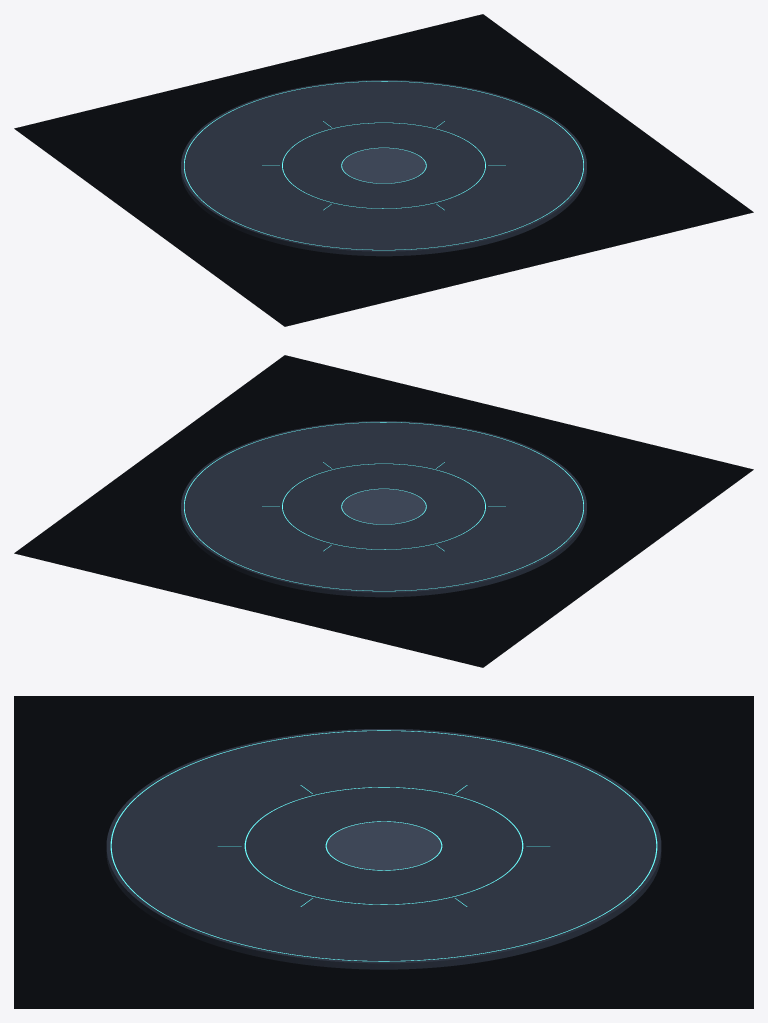
The picture shows the model from 3 angles, top to bottom: view 1: azimuth 30°, elevation 25°; view 2: azimuth 150°, elevation 25°; view 3: azimuth 270°, elevation 25°; orthographic projection. The views are drawn at different scales.
Visible parts, largest first — view 1: nexo_floor.lod0; view 2: nexo_floor.lod0; view 3: nexo_floor.lod0.
Part boxes in pixels (bbox=[...]): nexo_floor.lod0: bbox=[14, 14, 753, 326]; nexo_floor.lod0: bbox=[14, 355, 753, 667]; nexo_floor.lod0: bbox=[14, 696, 753, 1008].
Size of the model in its own units: 64 by 0.6328 by 64.
